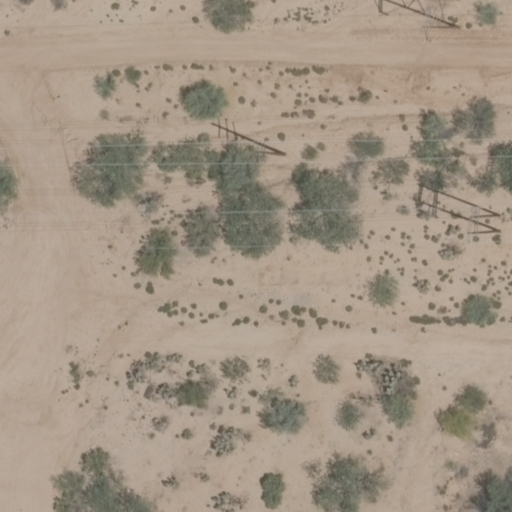DT: (246, 142, 279, 161)
TT: (458, 211, 509, 237)
